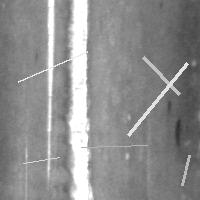scratches: (123, 58, 192, 140), (64, 1, 92, 200), (13, 46, 92, 86), (45, 1, 58, 184), (138, 52, 184, 99), (76, 140, 152, 152), (18, 152, 64, 168), (177, 150, 194, 190), (172, 116, 185, 150)
